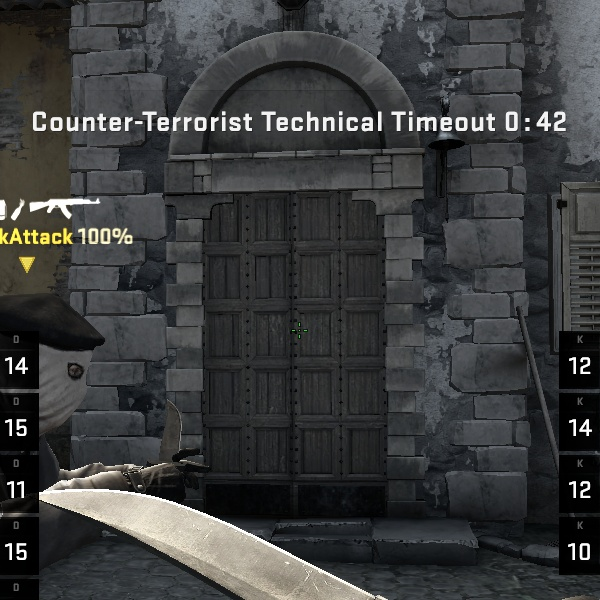t_body: (0, 274, 132, 593)
